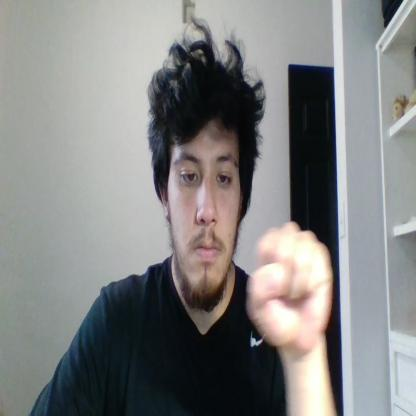S: (246, 223, 332, 346)
